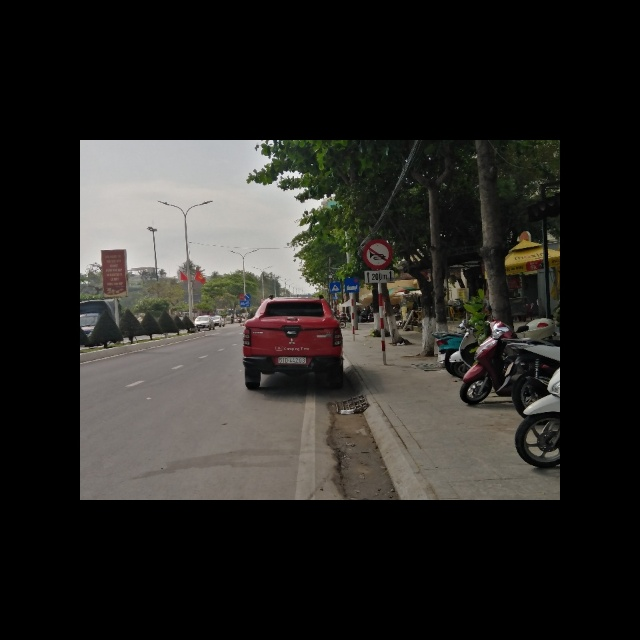Bệnh viện: (345, 277, 359, 294)
Cấm bấm còi: (363, 239, 394, 270)
Đường dành cho người đi bộ: (329, 281, 341, 293)
